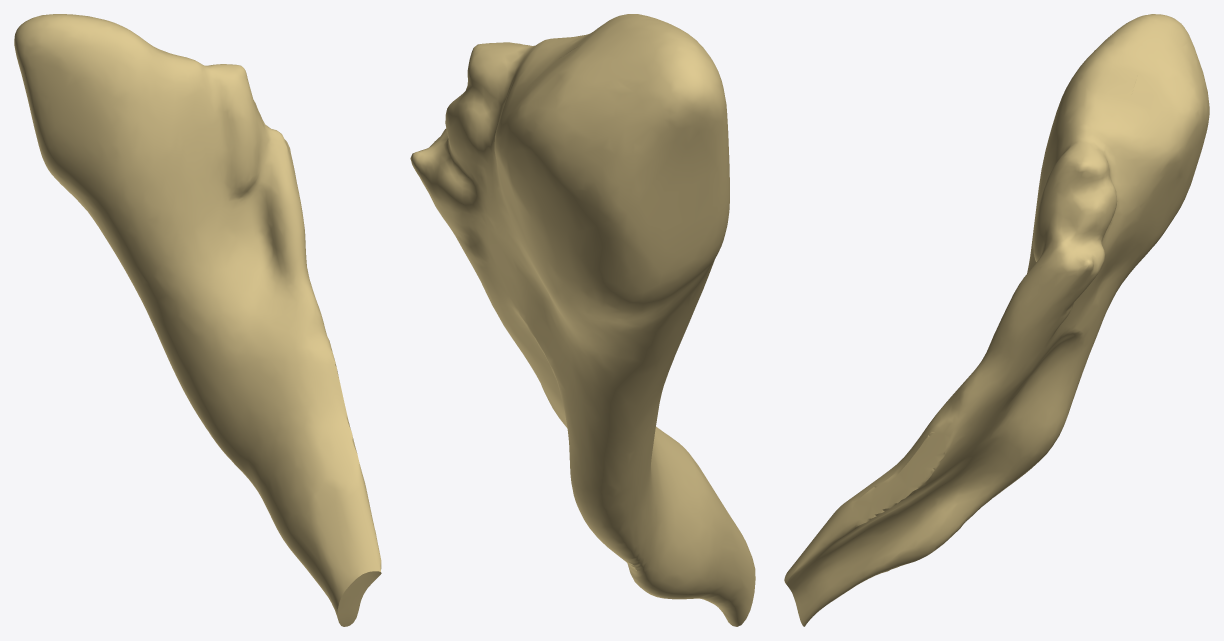
3 views of the same model, side by side, from view 1: azimuth 30°, elevation 25°; view 2: azimuth 150°, elevation 25°; view 3: azimuth 270°, elevation 25° (orthographic). The views are drawn at different scales.
Visible parts, largest first — view 1: 右侧小脑上脚; view 2: 右侧小脑上脚; view 3: 右侧小脑上脚.
Part boxes in pixels (x1=…): 右侧小脑上脚: x1=14, y1=14, x2=381, y2=626; 右侧小脑上脚: x1=410, y1=14, x2=755, y2=626; 右侧小脑上脚: x1=784, y1=14, x2=1209, y2=626.
Bounding box in the file's own units: 0.0202 × 0.0442 × 0.0313.
